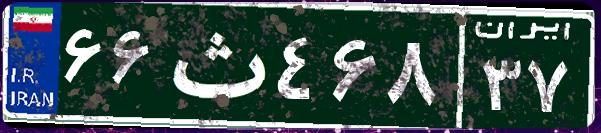3: (475, 38, 525, 113)
4: (273, 28, 330, 110)
6: (330, 28, 385, 110), (57, 26, 110, 107), (110, 28, 158, 105)
7: (525, 38, 570, 115)
8: (385, 28, 445, 110)
ث: (158, 15, 273, 115)
